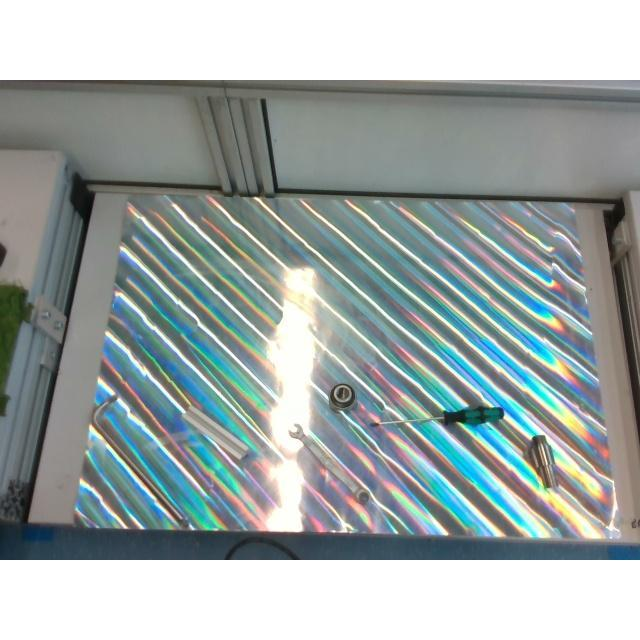AllenKey: (92, 394, 198, 532)
Axis2: (530, 434, 554, 486)
Bearing2: (329, 384, 355, 408)
F20_20_G: (182, 406, 248, 460)
Screwdriver: (368, 406, 506, 426)
Wrench: (288, 422, 372, 506)
